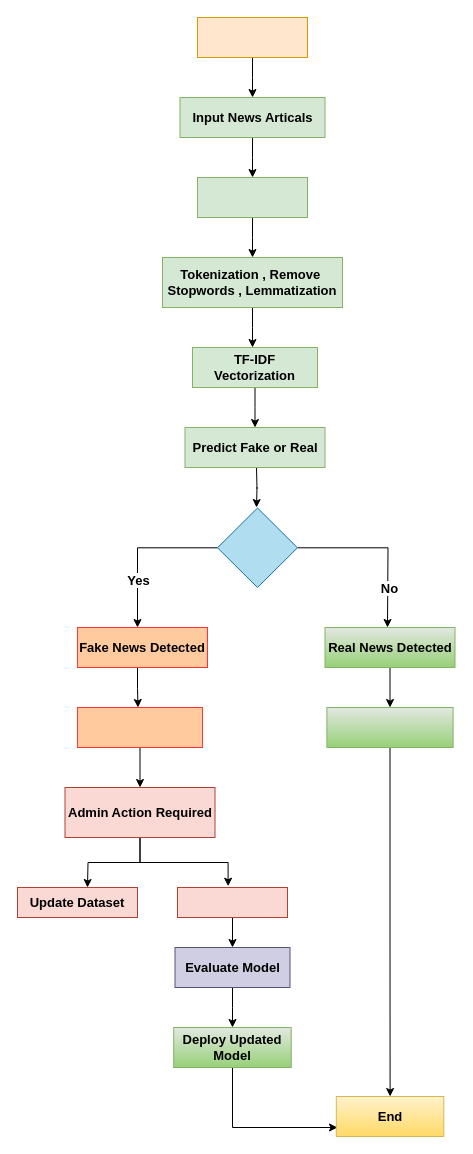
This 473x1154 diagram has some shape labels left out. The box of each missing label's shape, as (x1, y1, x2, y2) in pixels:
Display Fake News: (76, 706, 202, 748)
Display Real News: (326, 706, 453, 748)
Is fake ?: (216, 507, 298, 588)
Processes Data: (196, 176, 308, 218)
Retrain Model: (176, 886, 288, 918)
start: (196, 16, 308, 58)
